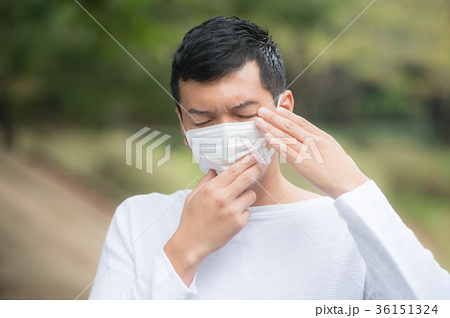mask: (182, 120, 276, 180)
